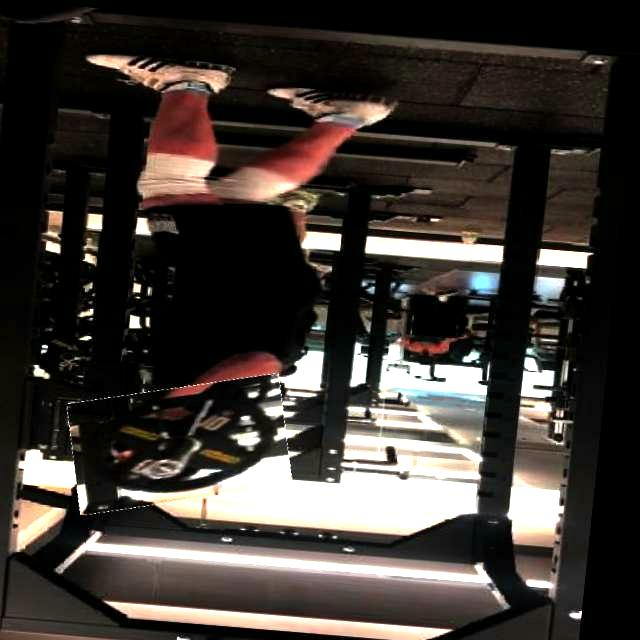barbell: (74, 367, 307, 515)
